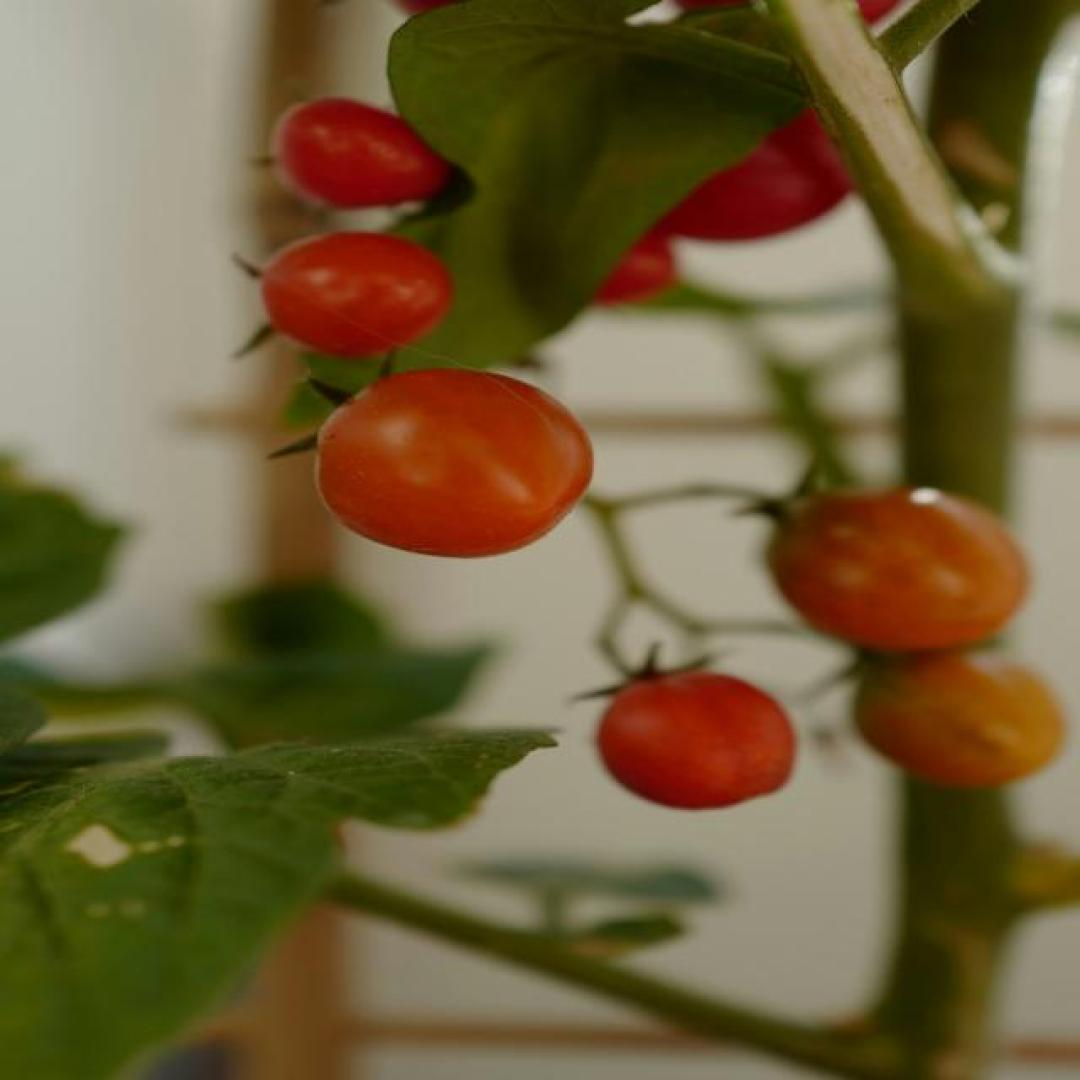matang: (314, 368, 594, 552), (258, 231, 454, 358)
